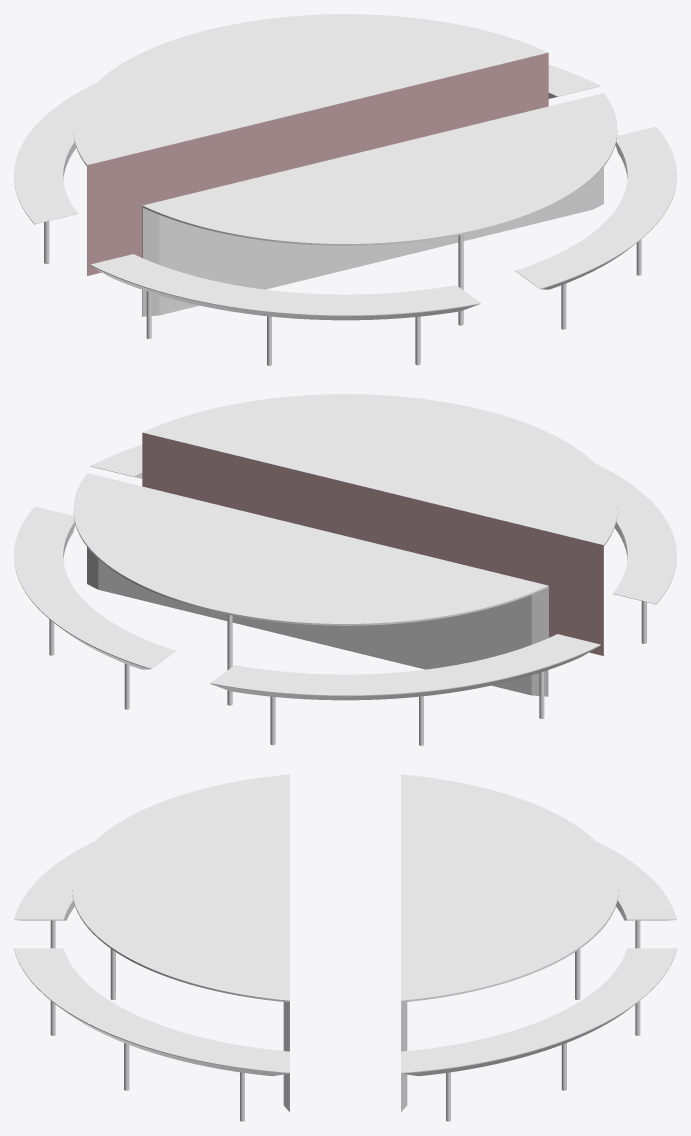
File: entaku_pink.fbx
3 views of the same model, one above another, from view 1: azimuth 30°, elevation 25°; view 2: azimuth 150°, elevation 25°; view 3: azimuth 270°, elevation 25° (orthographic).
Parts seen in each view (by area): view 1: 天板, color, 足; view 2: 天板, color, 足; view 3: 天板, 足.
Part boxes in pixels (x1,y1,x2,y2): 天板: (14, 14, 676, 320); color: (87, 52, 548, 275); 足: (44, 221, 641, 365); 天板: (14, 394, 676, 700); color: (142, 432, 603, 655); 足: (49, 601, 646, 745); 天板: (14, 774, 676, 1111); 足: (50, 920, 640, 1121).
Size of the model in its own units: 384 by 72 by 388.
